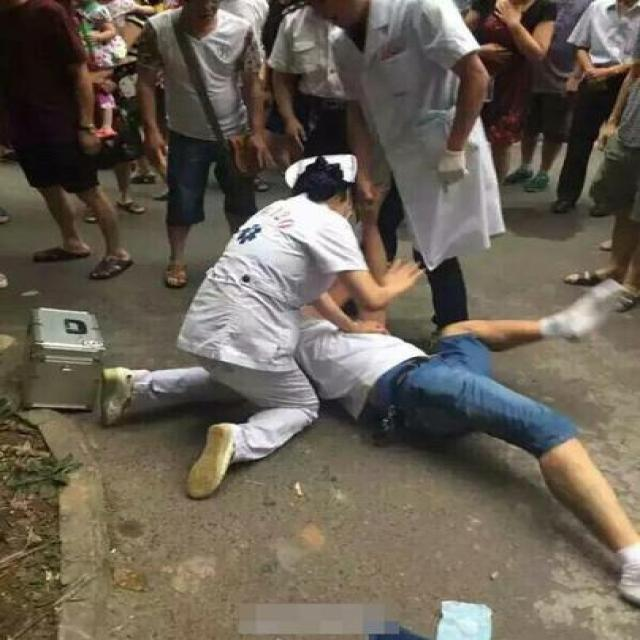10-: (5, 5, 638, 495)
down: (290, 278, 638, 599)
